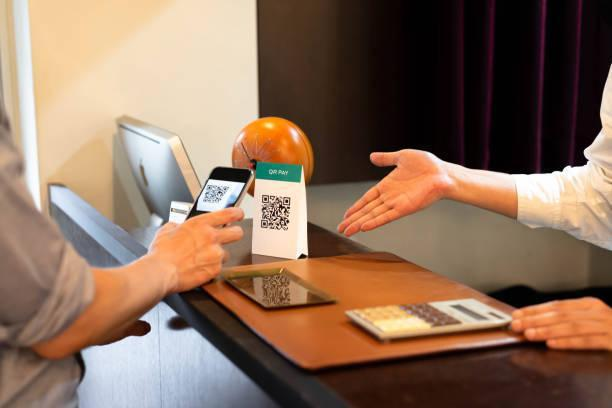qr_code: (261, 194, 291, 231), (202, 184, 230, 204)
